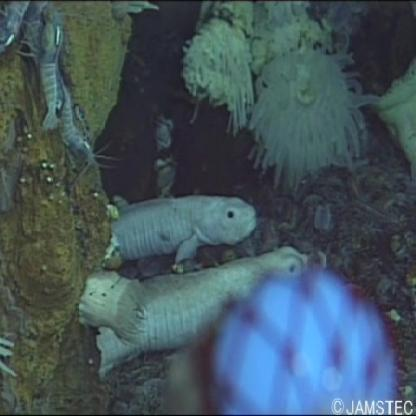Bio: (73, 185, 332, 378), (234, 31, 384, 185), (1, 1, 114, 175)
